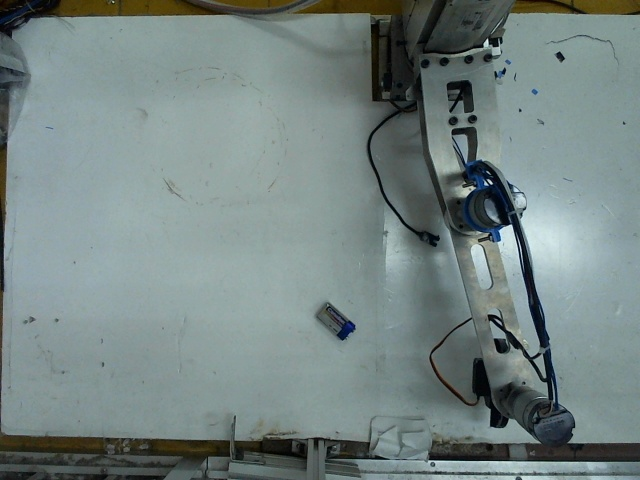battery: (313, 297, 353, 338)
